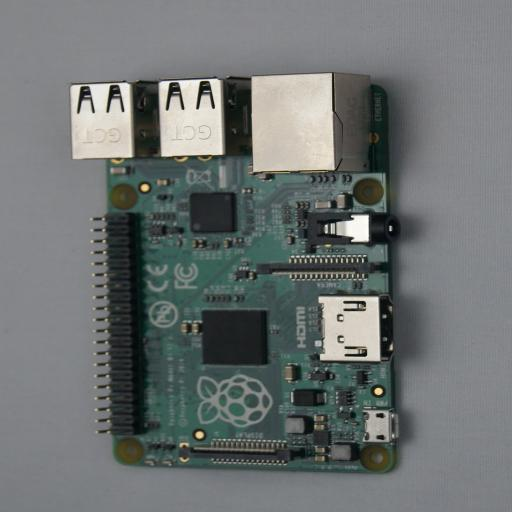Raspberry Pi 1 B-: (71, 72, 424, 475)
